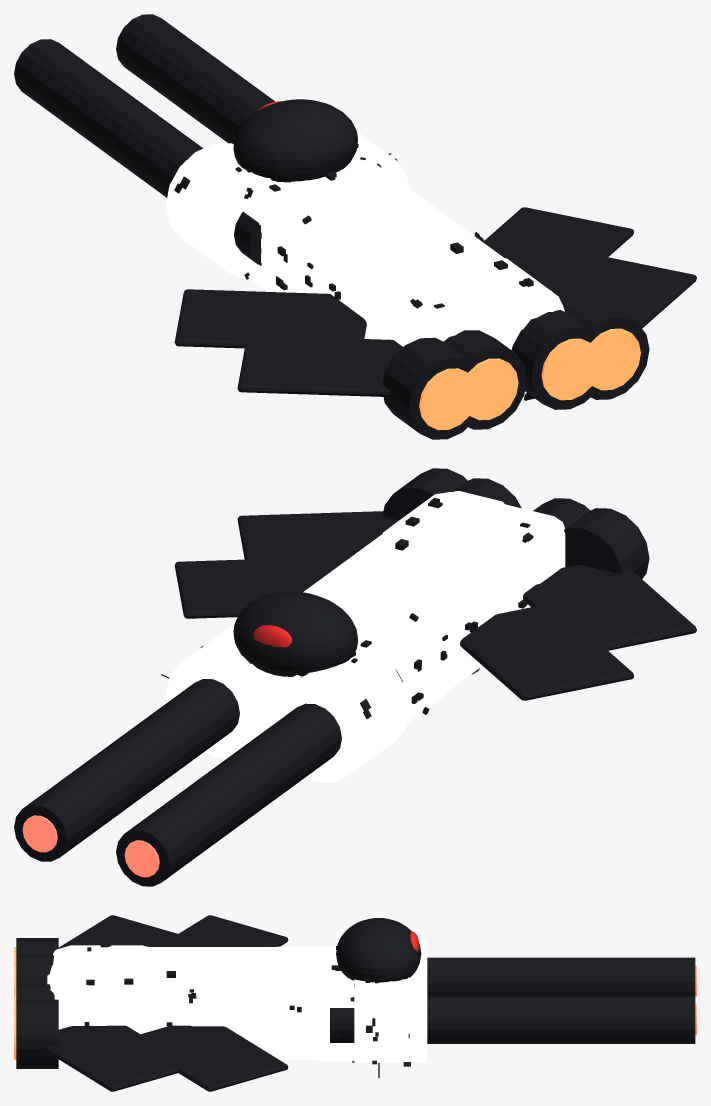
The model's file is tarkhan_large.glb.
3 views of the same model, one above another, from view 1: azimuth 30°, elevation 25°; view 2: azimuth 150°, elevation 25°; view 3: azimuth 270°, elevation 25° (orthographic). The views are drawn at different scales.
Visible parts, largest first — view 1: tarkhan_large; view 2: tarkhan_large; view 3: tarkhan_large.
Part boxes in pixels (x1,y1,x2,y2): tarkhan_large: [14, 14, 696, 439]; tarkhan_large: [14, 468, 696, 886]; tarkhan_large: [14, 915, 696, 1091].
Size of the model in its own units: 6.02 by 2.36 by 10.
